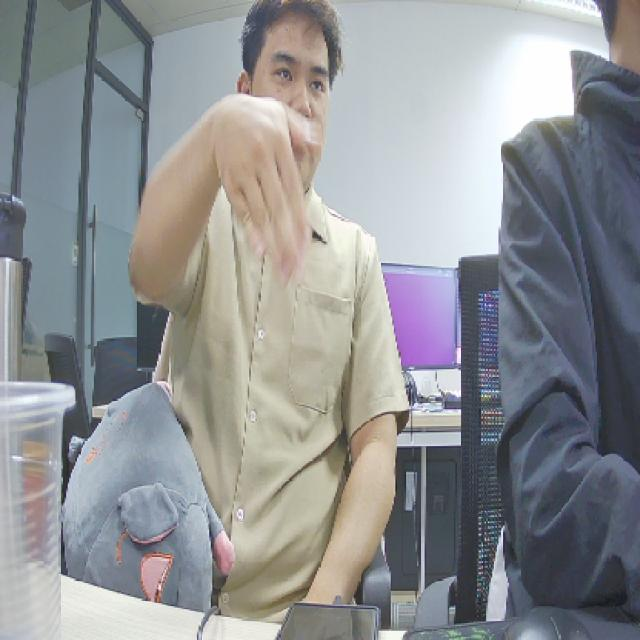7_mano_rostro: (200, 72, 314, 274)
